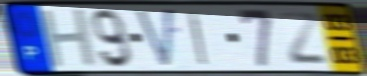7: (236, 7, 275, 70)
9: (88, 7, 134, 70)
H: (39, 7, 100, 70)
I: (186, 10, 210, 67)
V: (133, 6, 176, 71)
Z: (276, 10, 331, 67)
